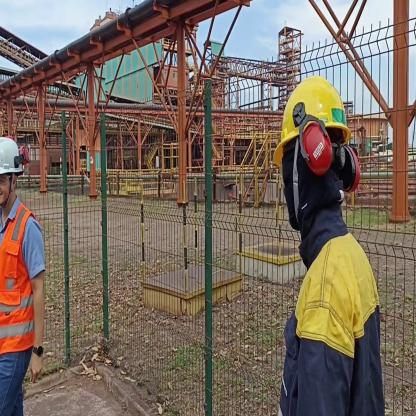Balaclava: (283, 146, 349, 232)
C_eletrica: (266, 238, 391, 416)
Capacete: (270, 69, 357, 148), (0, 132, 26, 169)
colete: (0, 205, 39, 352)
